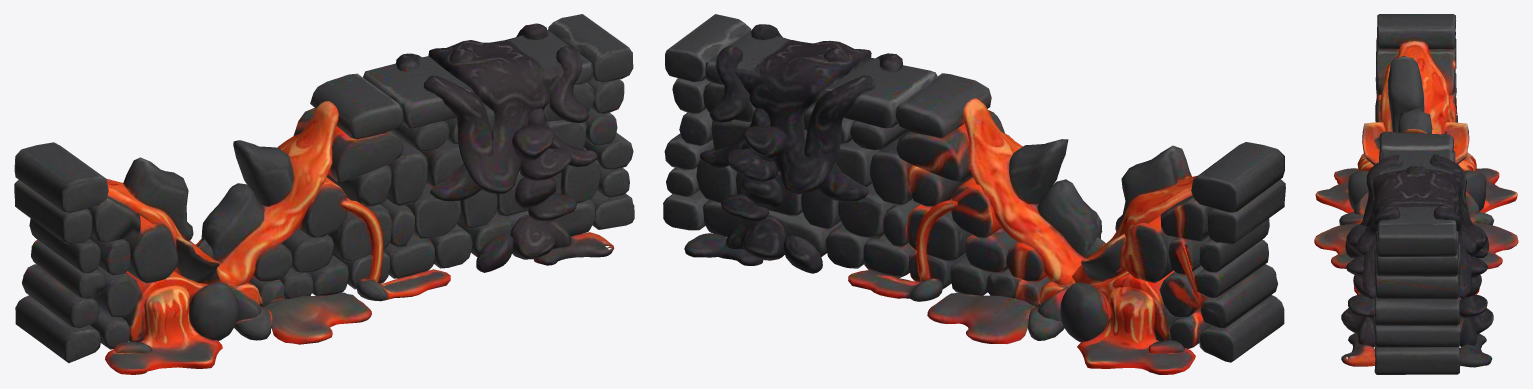
Rendered from fj_muro_quebrado.glb.
The picture shows the model from 3 angles, left to right: view 1: azimuth 30°, elevation 25°; view 2: azimuth 150°, elevation 25°; view 3: azimuth 270°, elevation 25°; orthographic projection. The views are drawn at different scales.
Parts seen in each view (by area): view 1: Mesh_0; view 2: Mesh_0; view 3: Mesh_0.
Part boxes in pixels (x1,y1,x2,y2): Mesh_0: (14,14,634,374); Mesh_0: (663,14,1285,374); Mesh_0: (1314,14,1518,374).
Size of the model in its own units: 1 by 0.332 by 0.3867.
1 material, 1 textured.
